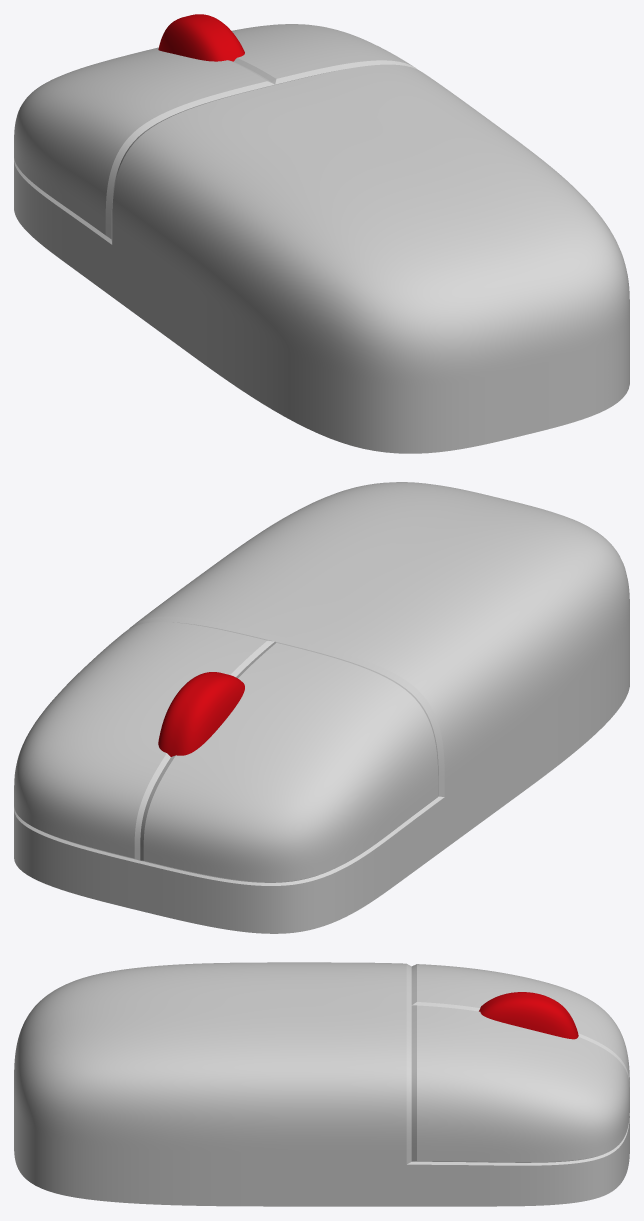
File: Computermaus_Modell.dae
3 renders of one model, top to bottom at view 1: azimuth 30°, elevation 25°; view 2: azimuth 150°, elevation 25°; view 3: azimuth 270°, elevation 25°, orthographic. The views are drawn at different scales.
Visible parts, largest first — view 1: COMPUTER_MOUSE; view 2: COMPUTER_MOUSE; view 3: COMPUTER_MOUSE.
Part boxes in pixels (x1,y1,x2,y2): COMPUTER_MOUSE: (14, 14, 629, 453); COMPUTER_MOUSE: (14, 482, 629, 933); COMPUTER_MOUSE: (14, 962, 629, 1206).
Size of the model in its own units: 1 by 2 by 0.5236.
